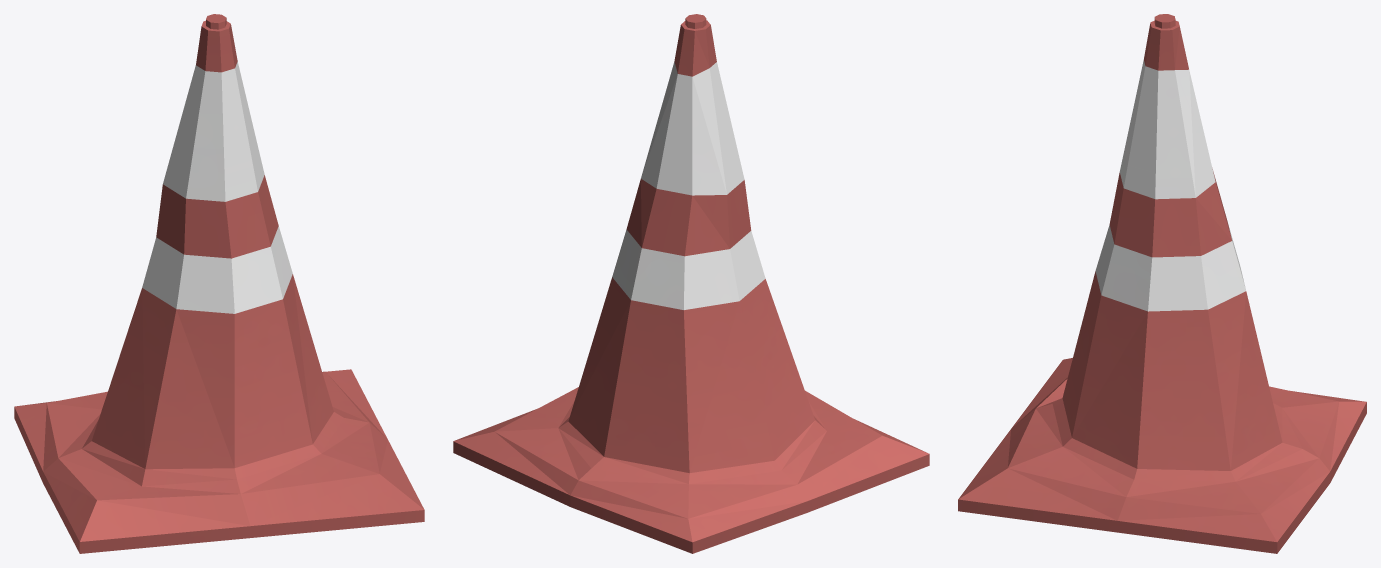
File: hazzard_cone_1.dae
3 renders of one model, left to right at view 1: azimuth 30°, elevation 25°; view 2: azimuth 150°, elevation 25°; view 3: azimuth 270°, elevation 25°, orthographic. The views are drawn at different scales.
Parts seen in each view (by area): view 1: hazzard_cone_1; view 2: hazzard_cone_1; view 3: hazzard_cone_1.
Part boxes in pixels (x1,y1,x2,y2): hazzard_cone_1: (14, 14, 424, 553); hazzard_cone_1: (453, 14, 929, 553); hazzard_cone_1: (958, 14, 1366, 553).
Size of the model in its own units: 0.7049 by 0.667 by 0.7988.
Materials: 1 (1 with a texture image).
